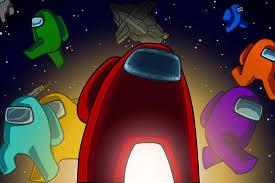amongus: (78, 44, 203, 182), (202, 89, 262, 172), (5, 94, 62, 178), (25, 10, 69, 68), (233, 38, 274, 100), (223, 4, 247, 32)
